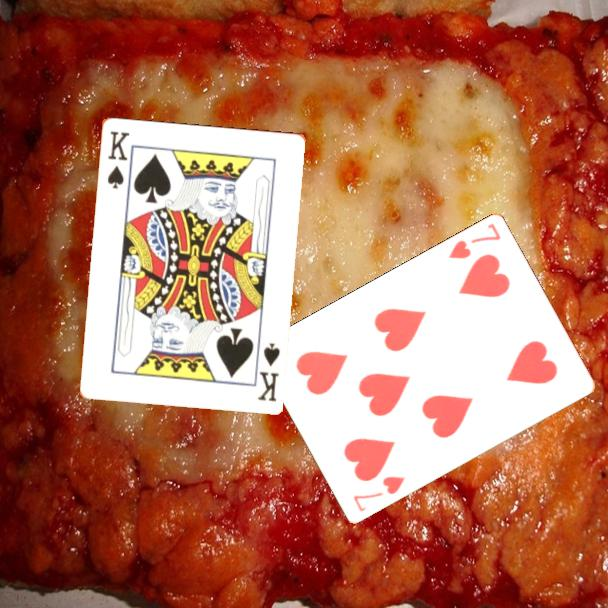h07: (350, 473, 408, 515), (445, 220, 503, 262)
s13: (254, 339, 282, 404), (104, 127, 132, 191)
